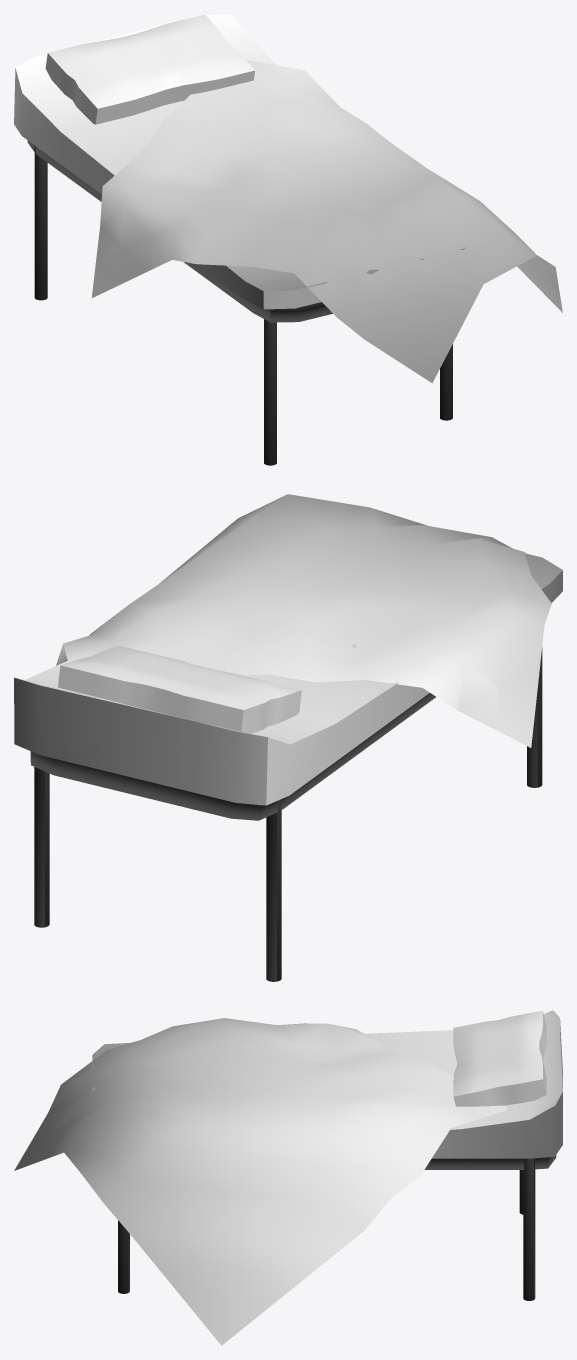
File: camillacontextura.fbx
3 renders of one model, top to bottom at view 1: azimuth 30°, elevation 25°; view 2: azimuth 150°, elevation 25°; view 3: azimuth 270°, elevation 25°, orthographic. The views are drawn at different scales.
Visible parts, largest first — view 1: pCylinder1; view 2: pCylinder1; view 3: pCylinder1.
Part boxes in pixels (x1,y1,x2,y2): pCylinder1: (14, 14, 562, 465); pCylinder1: (14, 494, 562, 981); pCylinder1: (14, 1010, 562, 1345).
Bounding box in the file's own units: 199 × 102 × 242.
Materials: 1 (1 with a texture image).
